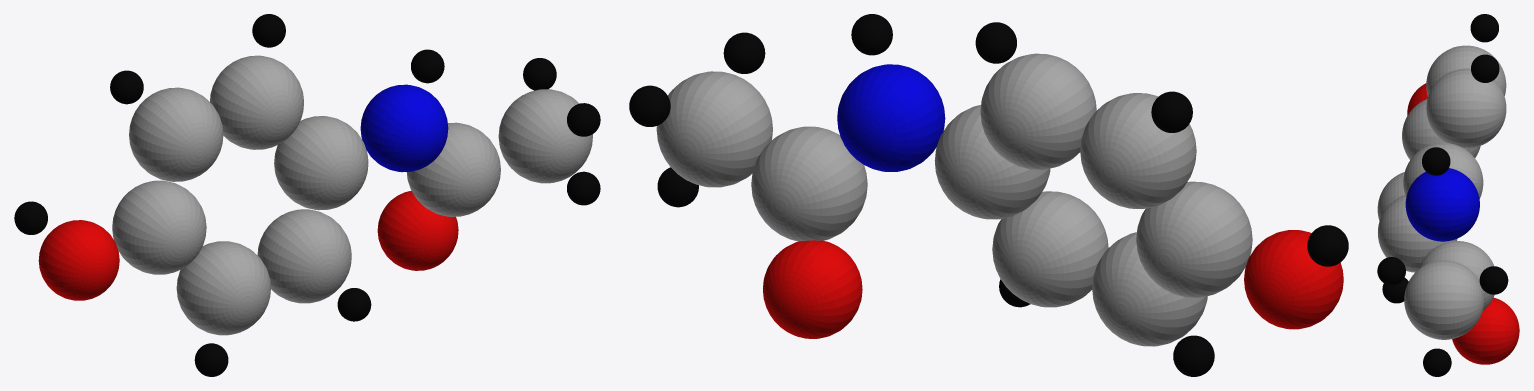
The model's file is Paracetamol.glb.
3 views of the same model, side by side, from view 1: azimuth 30°, elevation 25°; view 2: azimuth 150°, elevation 25°; view 3: azimuth 270°, elevation 25° (orthographic). The views are drawn at different scales.
Visible parts, largest first — view 1: world; view 2: world; view 3: world.
Boxes of the visible parts, <box> form: world: <box>14,14,600,376</box>; world: <box>629,14,1348,376</box>; world: <box>1377,14,1519,376</box>.
Bounding box in the file's own units: 9.74 × 4.83 × 2.49.
